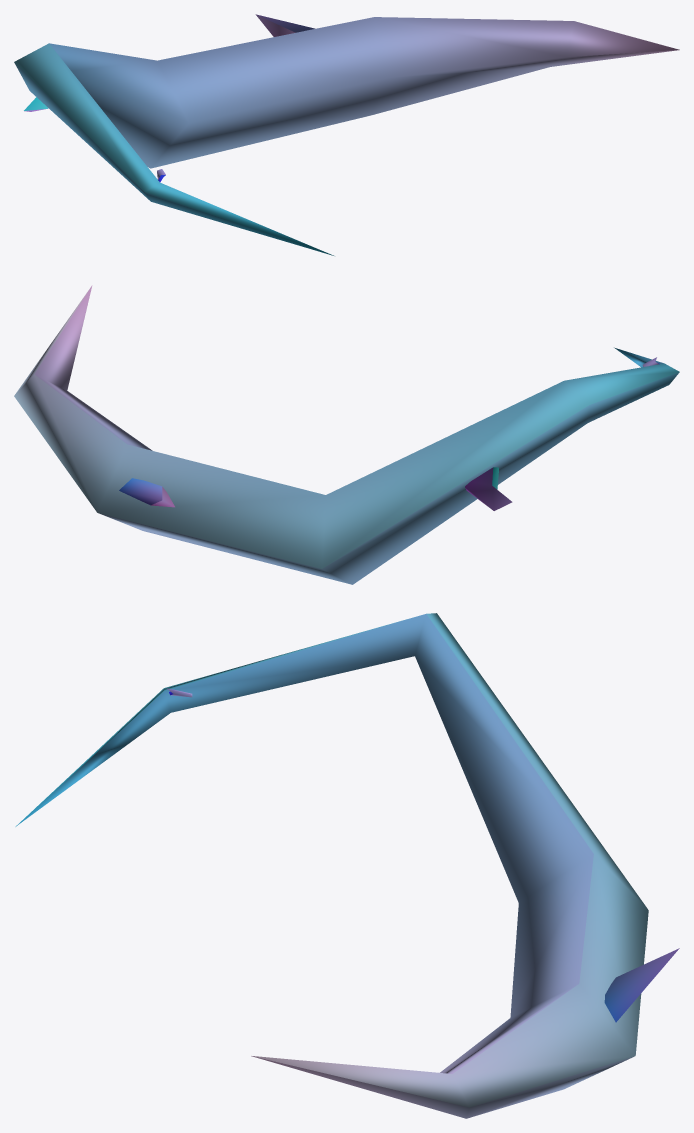
The picture shows the model from 3 angles, top to bottom: view 1: azimuth 30°, elevation 25°; view 2: azimuth 150°, elevation 25°; view 3: azimuth 270°, elevation 25°; orthographic projection. The views are drawn at different scales.
Visible parts, largest first — view 1: SM_VFX_Beetle_LowPoly_LOD0; view 2: SM_VFX_Beetle_LowPoly_LOD0; view 3: SM_VFX_Beetle_LowPoly_LOD0.
Part boxes in pixels (bbox=[...]): SM_VFX_Beetle_LowPoly_LOD0: bbox=[14, 14, 679, 255]; SM_VFX_Beetle_LowPoly_LOD0: bbox=[14, 285, 679, 584]; SM_VFX_Beetle_LowPoly_LOD0: bbox=[15, 613, 679, 1118].
Size of the model in its own units: 0.6822 by 0.2289 by 0.548.
